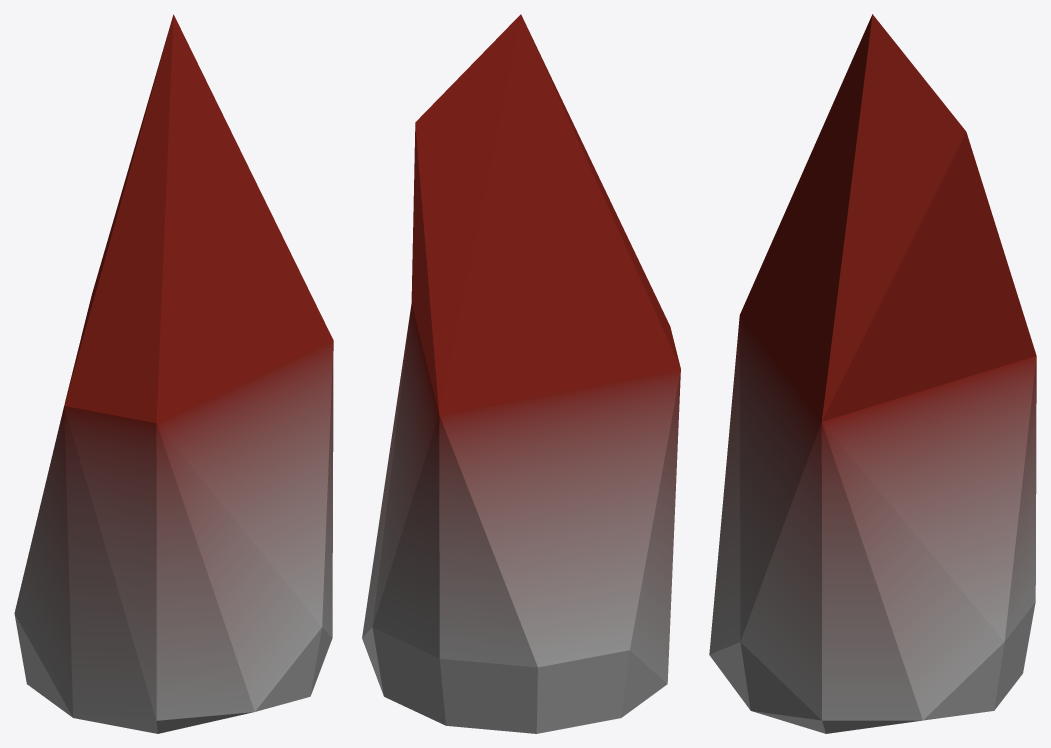
File: buoy.lod2.glb
3 renders of one model, left to right at view 1: azimuth 30°, elevation 25°; view 2: azimuth 150°, elevation 25°; view 3: azimuth 270°, elevation 25°, orthographic.
Visible parts, largest first — view 1: Object_4; view 2: Object_4; view 3: Object_4.
Part boxes in pixels (box(x1,y1,x2,y2)): Object_4: box(14, 14, 333, 733); Object_4: box(362, 14, 680, 733); Object_4: box(709, 14, 1036, 733).
Bounding box in the file's own units: 0.6335 × 1.48 × 0.664.
